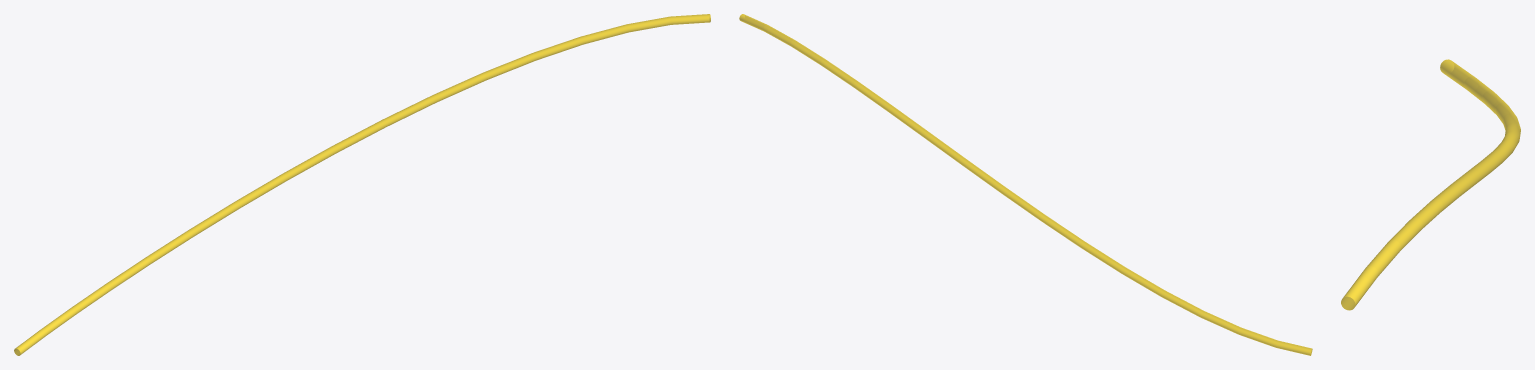
The model's file is Event_100608114_track_95.fbx.
3 renders of one model, left to right at view 1: azimuth 30°, elevation 25°; view 2: azimuth 150°, elevation 25°; view 3: azimuth 270°, elevation 25°, orthographic. The views are drawn at different scales.
Visible parts, largest first — view 1: Model; view 2: Model; view 3: Model.
Boxes of the visible parts, x1=… form: Model: x1=14, y1=14, x2=710, y2=355; Model: x1=739, y1=14, x2=1312, y2=355; Model: x1=1341, y1=59, x2=1520, y2=310.
Bounding box in the file's own units: 3.62 × 1.04 × 0.4726.
